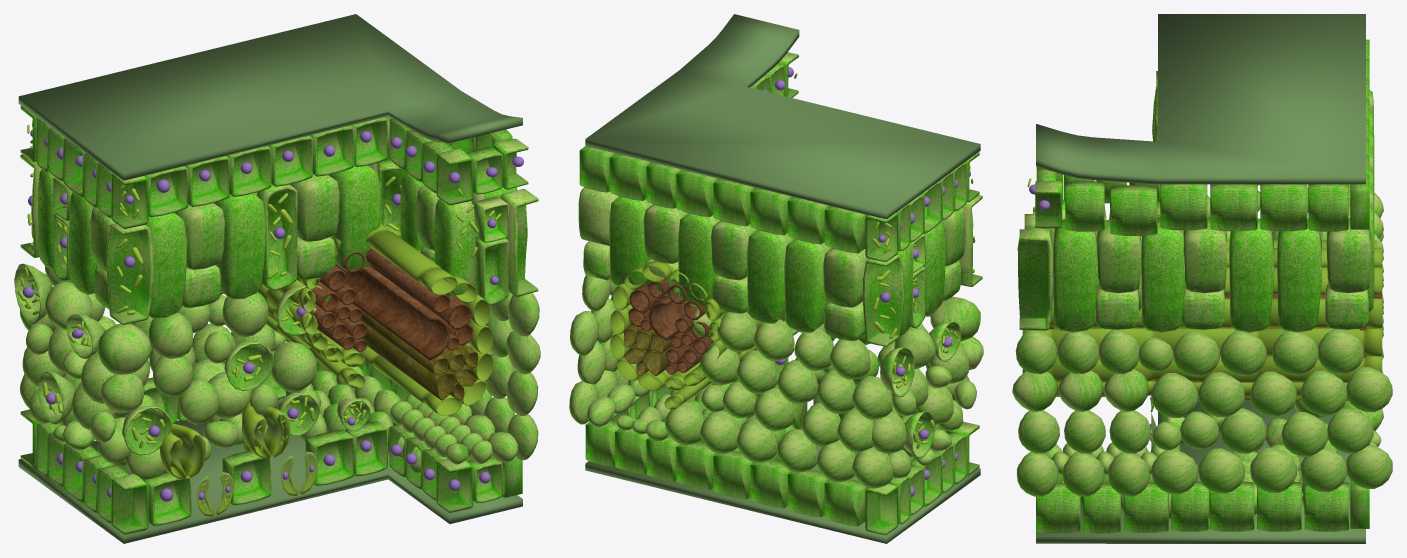
The model's file is photosynthesis.tablet.glb.
The picture shows the model from 3 angles, left to right: view 1: azimuth 30°, elevation 25°; view 2: azimuth 150°, elevation 25°; view 3: azimuth 270°, elevation 25°; orthographic projection. The views are drawn at different scales.
Visible parts, largest first — view 1: xibao_1_mesh_2_0 (×2); view 2: xibao_1_mesh_2_0 (×2); view 3: xibao_1_mesh_2_0 (×2).
Boxes of the visible parts, x1,y1,x2,y2 form: xibao_1_mesh_2_0 (×2): [14, 14, 540, 543]; xibao_1_mesh_2_0 (×2): [569, 14, 983, 543]; xibao_1_mesh_2_0 (×2): [1012, 14, 1392, 543].
Size of the model in its own units: 4526017 by 4548784 by 4076789.
1 material, 1 textured.
